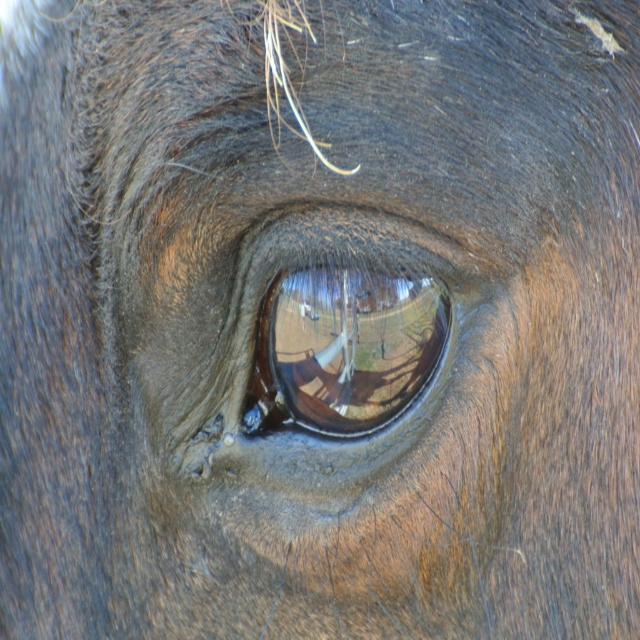Horse: (0, 0, 638, 639)
